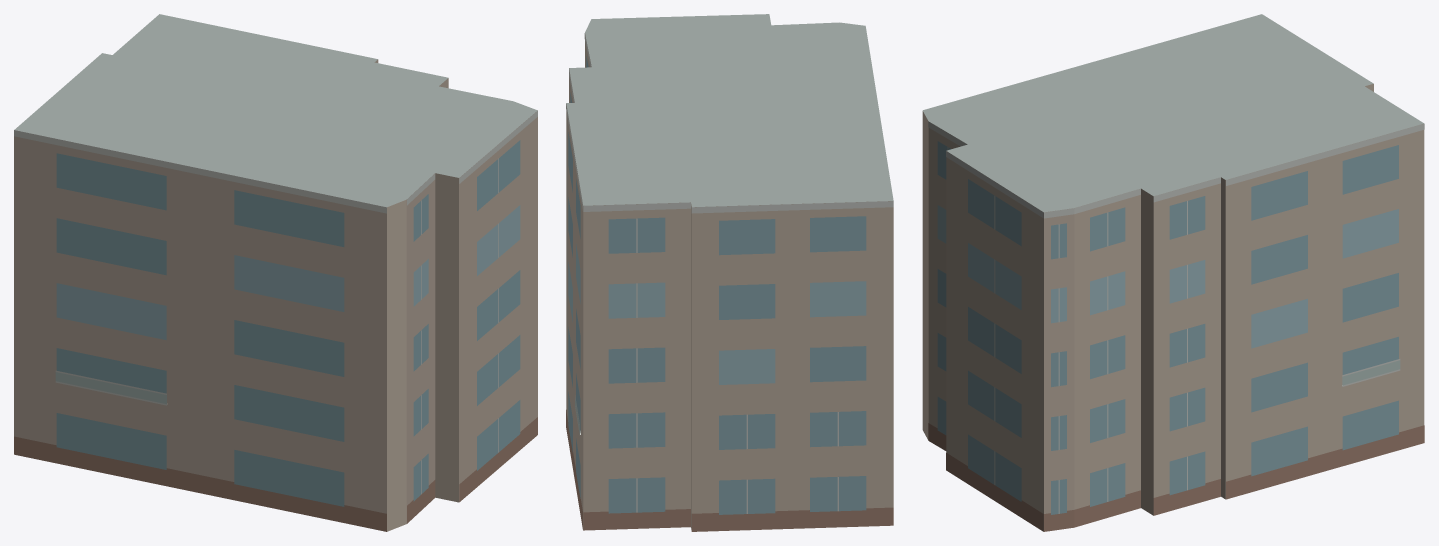
File: survey-upis-32652809.glb
3 renders of one model, left to right at view 1: azimuth 30°, elevation 25°; view 2: azimuth 150°, elevation 25°; view 3: azimuth 270°, elevation 25°, orthographic.
Parts seen in each view (by area): view 1: survey-upis-32652809.tmp; view 2: survey-upis-32652809.tmp; view 3: survey-upis-32652809.tmp.
Boxes of the visible parts, x1,y1,x2,y2 form: survey-upis-32652809.tmp: [14, 14, 537, 531]; survey-upis-32652809.tmp: [566, 14, 893, 531]; survey-upis-32652809.tmp: [922, 14, 1424, 531].
Size of the model in its own units: 16.79 by 12.6 by 17.95.
